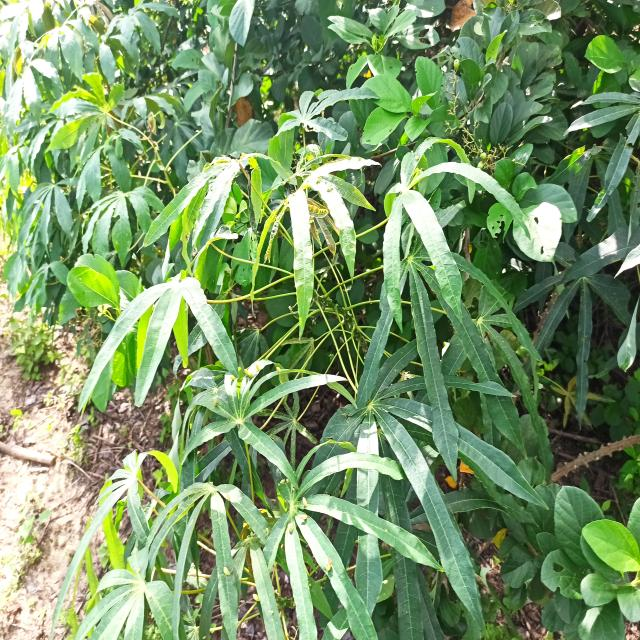Maleza: (351, 4, 557, 144), (545, 471, 636, 635), (494, 167, 575, 271), (56, 257, 128, 294)
Mosca: (286, 489, 315, 539), (237, 364, 267, 385), (307, 179, 334, 198), (206, 390, 223, 417), (321, 559, 340, 583), (220, 562, 239, 584), (272, 357, 288, 379)
